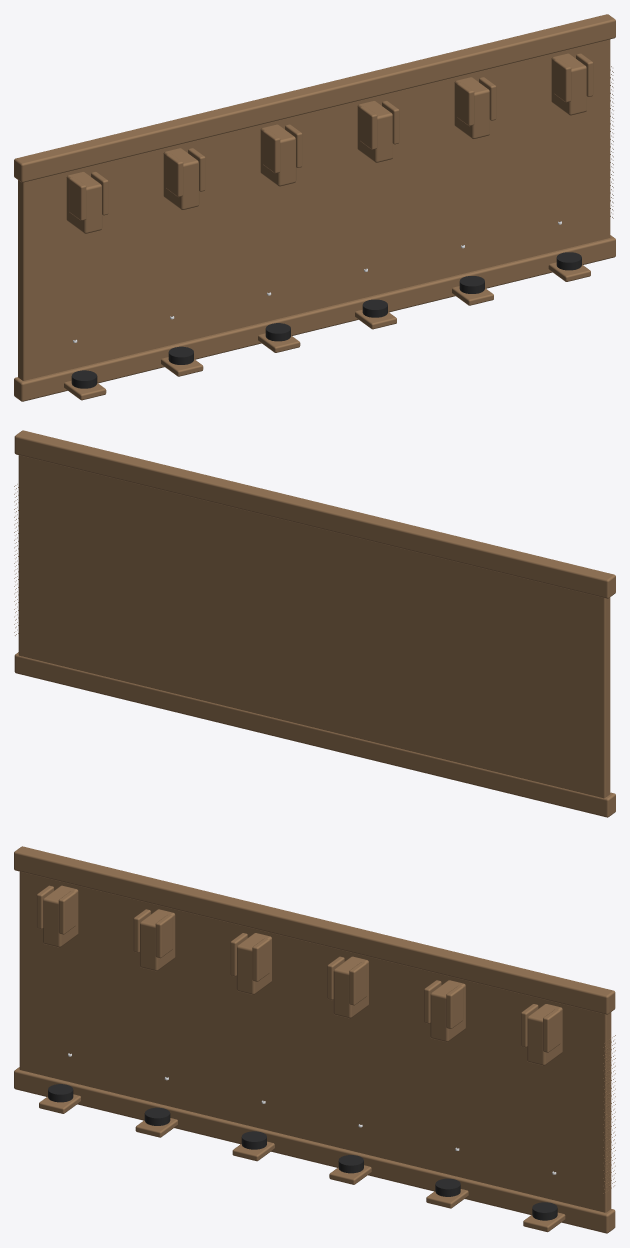
File: mega-weapon-pack-wall-rifle-rack-8c8b0265__33425.glb
The picture shows the model from 3 angles, top to bottom: view 1: azimuth 30°, elevation 25°; view 2: azimuth 150°, elevation 25°; view 3: azimuth 330°, elevation 25°; orthographic projection.
Visible parts, largest first — view 1: wall-rifle-rack; view 2: wall-rifle-rack; view 3: wall-rifle-rack.
Boxes of the visible parts, left/top/right/bottom form: wall-rifle-rack: left=14, top=14, right=615, bottom=401; wall-rifle-rack: left=14, top=430, right=615, bottom=817; wall-rifle-rack: left=14, top=846, right=615, bottom=1233.
Size of the model in its own units: 1.62 by 0.62 by 0.1416.
